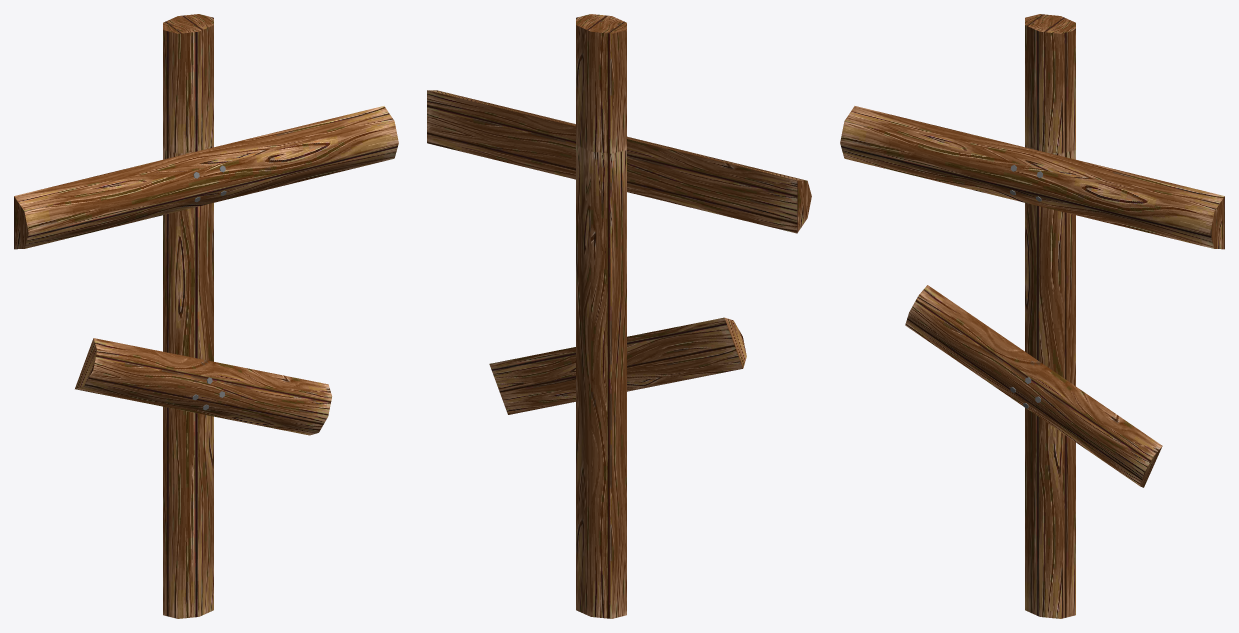
The model's file is krest.fbx.
3 renders of one model, left to right at view 1: azimuth 30°, elevation 25°; view 2: azimuth 150°, elevation 25°; view 3: azimuth 330°, elevation 25°, orthographic.
Parts seen in each view (by area): view 1: Cylinder, Cylinder.011, Cylinder.006; view 2: Cylinder, Cylinder.011, Cylinder.006; view 3: Cylinder, Cylinder.011, Cylinder.006.
Boxes of the visible parts, x1=… form: Cylinder: x1=163, y1=14, x2=213, y2=618; Cylinder.011: x1=14, y1=106, x2=398, y2=249; Cylinder.006: x1=75, y1=338, x2=332, y2=435; Cylinder: x1=576, y1=14, x2=626, y2=618; Cylinder.011: x1=427, y1=90, x2=811, y2=233; Cylinder.006: x1=489, y1=317, x2=746, y2=414; Cylinder: x1=1025, y1=14, x2=1075, y2=618; Cylinder.011: x1=840, y1=106, x2=1224, y2=249; Cylinder.006: x1=905, y1=285, x2=1162, y2=487.
Bounding box in the file's own units: 174 × 263 × 29.32.
